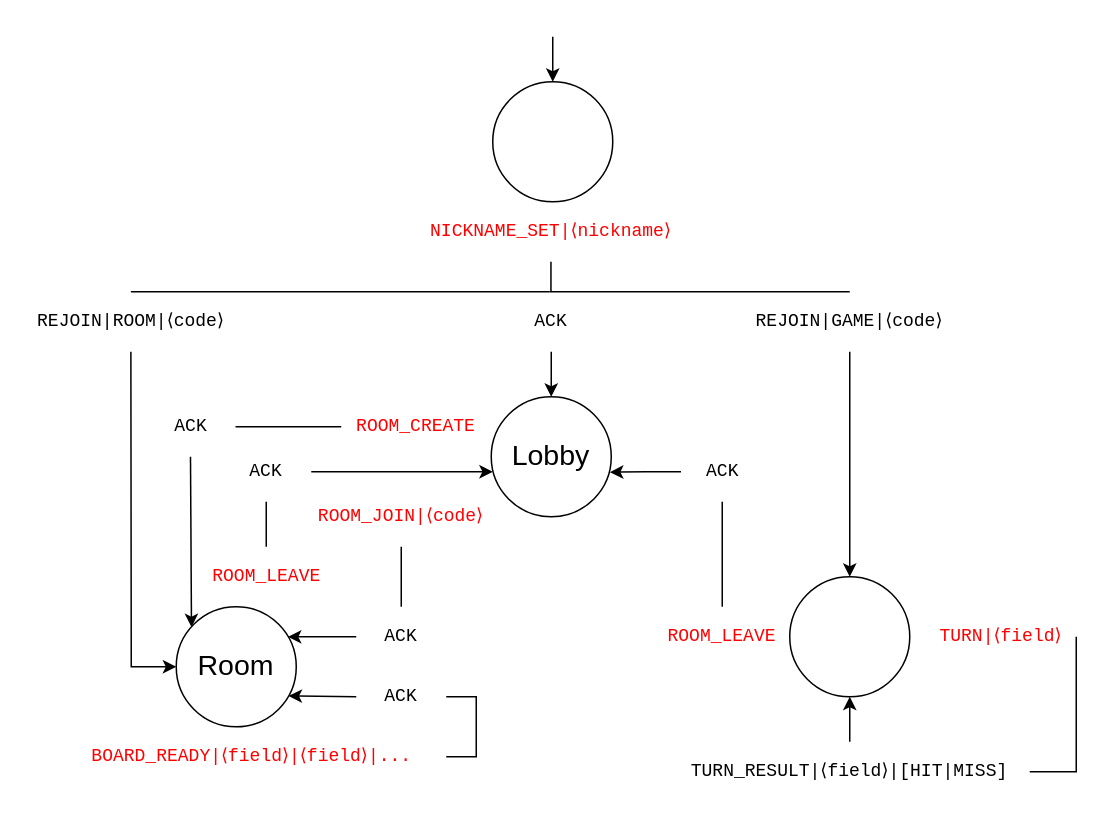
Some shapes in this 1116 by 828 pixel diagram are drawn without their labels. Each missing label, with the centre of its shape:
"Game" goes at point 849,636.
"Start" goes at point 552,141.
